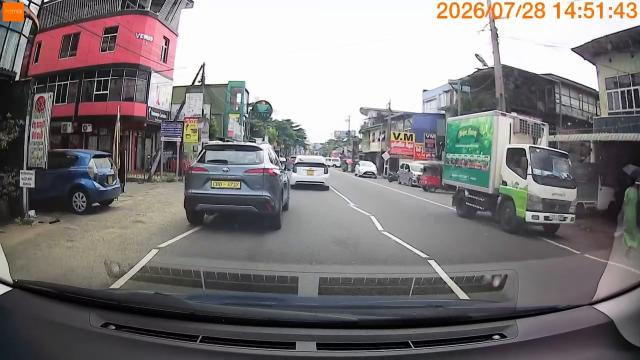number plate: (209, 177, 245, 190)
